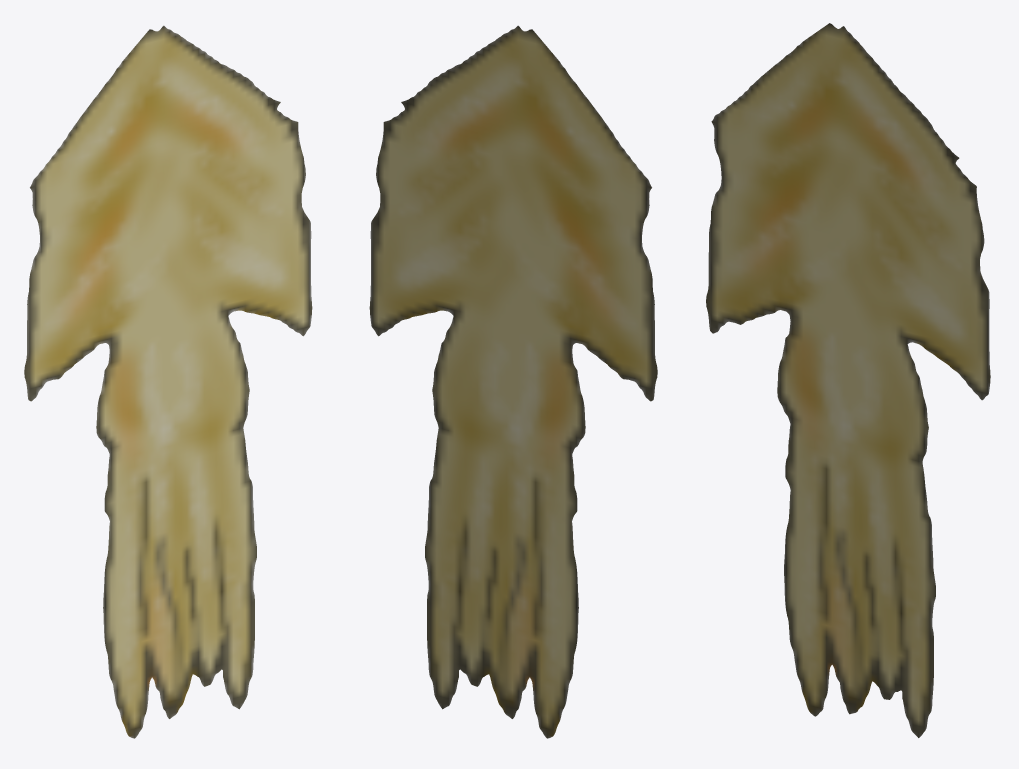
The model's file is giftgoods065.fbx.
3 views of the same model, side by side, from view 1: azimuth 30°, elevation 25°; view 2: azimuth 150°, elevation 25°; view 3: azimuth 330°, elevation 25° (orthographic).
Parts seen in each view (by area): view 1: giftgoods065; view 2: giftgoods065; view 3: giftgoods065.
Part boxes in pixels (left/top/right/bottom): giftgoods065: left=24, top=25, right=312, bottom=738; giftgoods065: left=369, top=25, right=657, bottom=738; giftgoods065: left=706, top=23, right=990, bottom=737.
Size of the model in its own units: 0.4034 by 0.8958 by 0.
